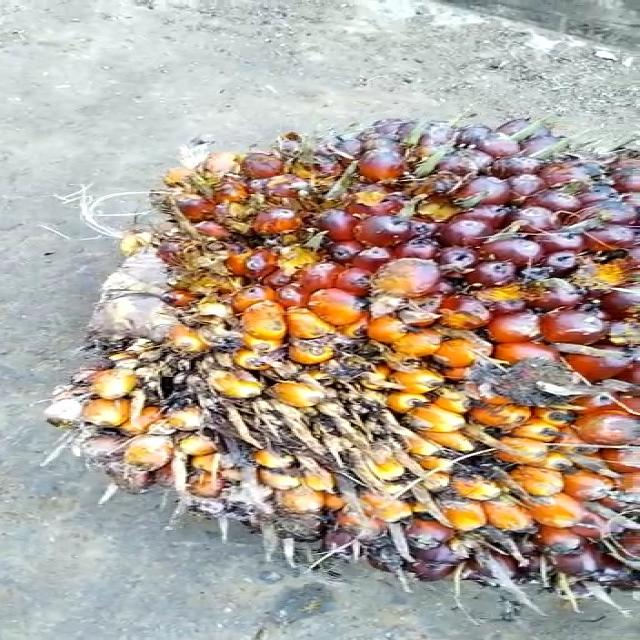palm oil: (49, 118, 640, 594)
